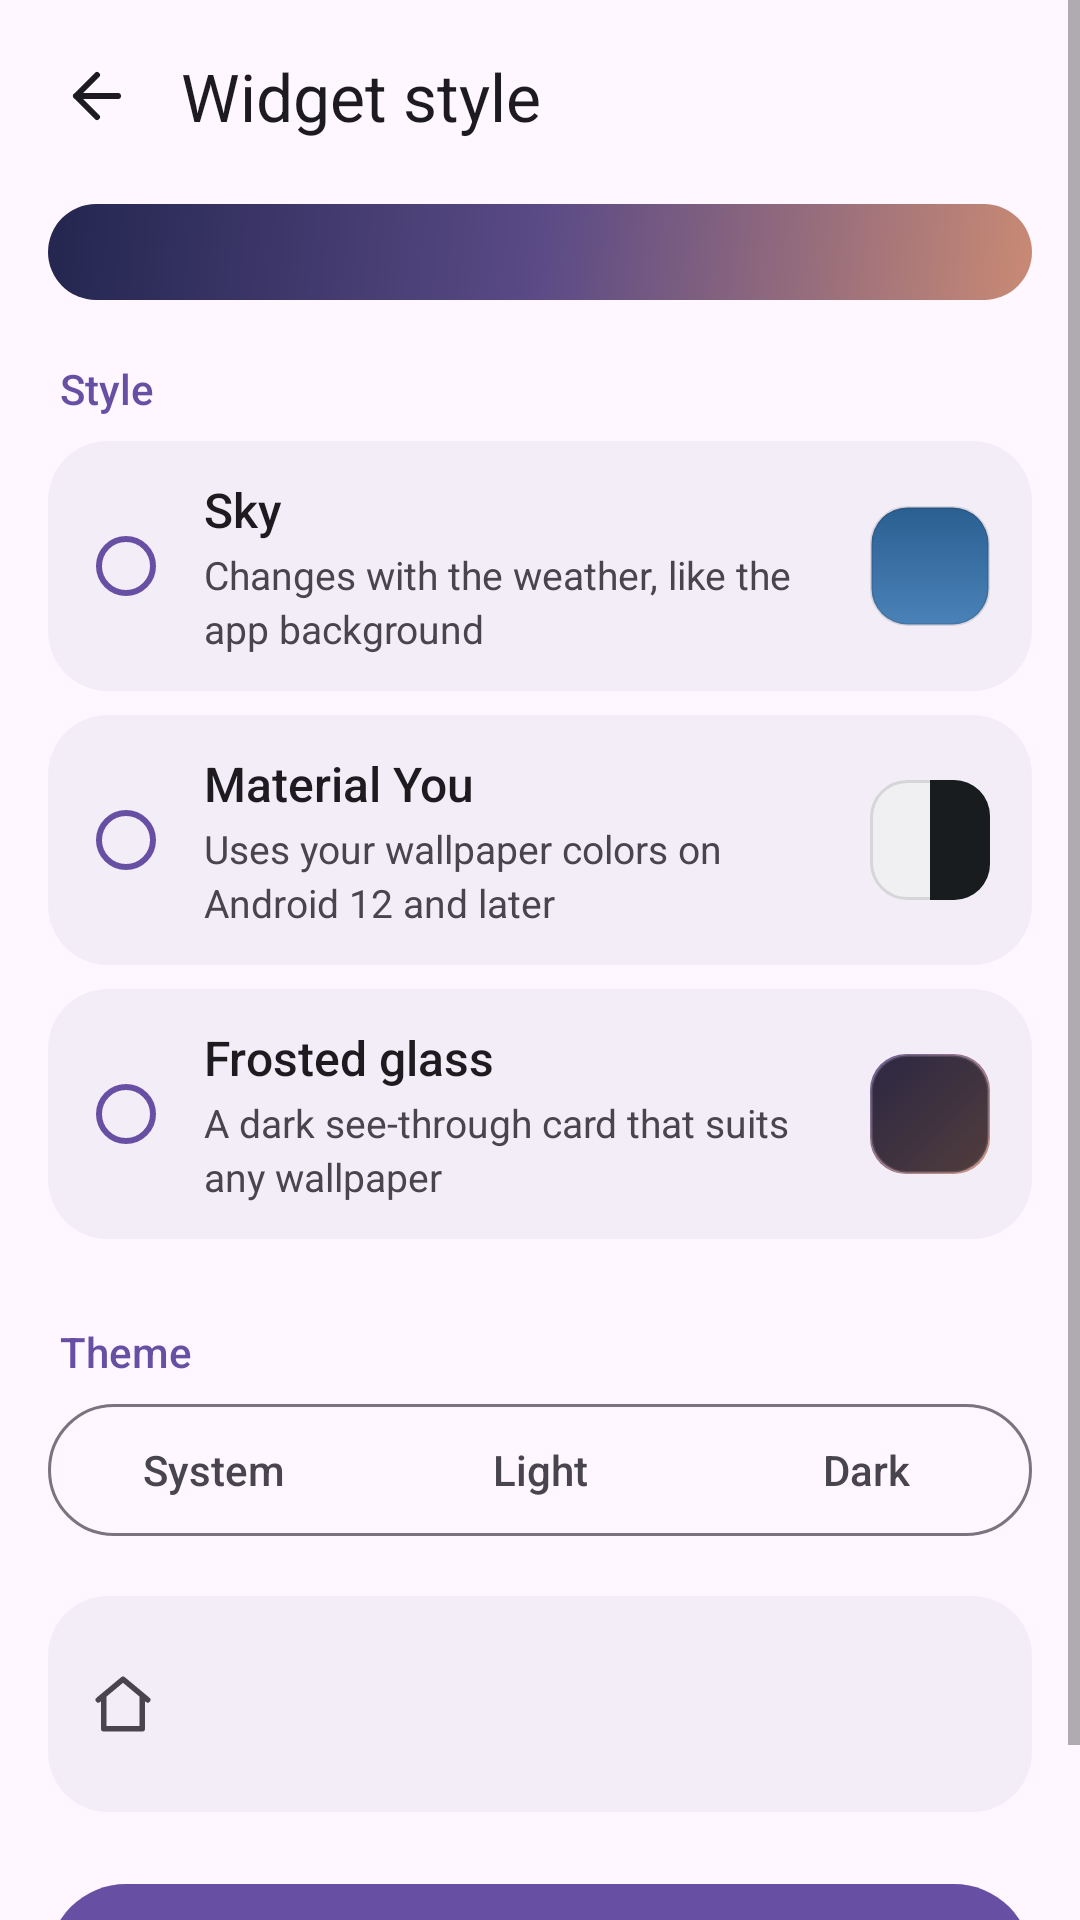

Locate icon controls on the screen. Image size 1080 x 1920, boxes as bbox(x1, y1, x2, y2).
Back: bbox(73, 72, 121, 120)
cfg home: bbox(95, 1676, 151, 1732)
